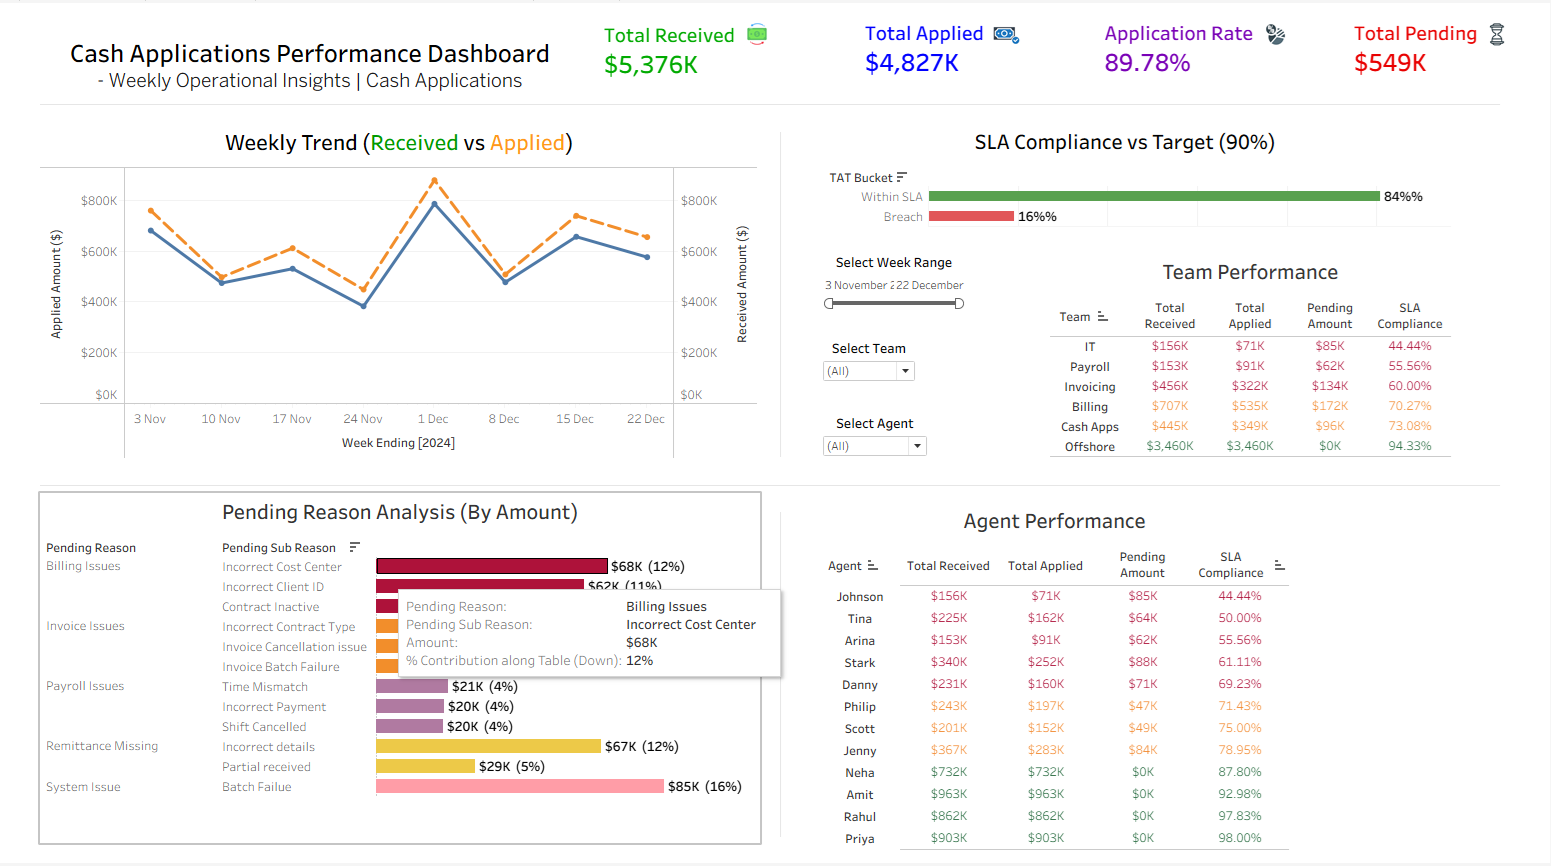

This screenshot's page, from the dashboard's own definition file:
{"tool":"tableau","page":{"name":"Dashboard 1","canvas":[1000,1000],"units":"permille","ordinal":0},"visuals":[{"type":"image","param":"Image/Image- Total Applied.jpeg","box":[638.1,15.1,19.4,46.5]},{"type":"image","param":"Image/Image-Total Received.jpeg","box":[478.7,16.3,19.4,34.9]},{"type":"text","box":[25.8,18.6,348.4,104.7]},{"type":"worksheet","title":"Total Received","mark":"Text","box":[387.1,18.6,135.5,104.7]},{"type":"worksheet","title":"Total Applied","mark":"Automatic","box":[555.5,18.6,135.5,104.7]},{"type":"worksheet","title":"Application Rate","mark":"Automatic","box":[709.7,18.6,135.5,104.7]},{"type":"image","param":"Image/Image- Application rate.jpeg","box":[812.9,18.6,19.4,34.9]},{"type":"image","param":"Image/Image-Total Pending.jpeg","box":[958.1,20.9,19.4,29.1]},{"type":"blank","box":[25.8,117.4,941.9,1.2]},{"type":"worksheet","title":"Weekly Trend","mark":"Line","rows":["Calculation_1283464877477888","Calculation_1283464880144386"],"cols":["Week_Ending (Dim_Date.csv)"],"box":[25.8,139.5,463.2,390.7]},{"type":"worksheet","title":"SLA Compliance ","mark":"Automatic","rows":["TAT_Bucket"],"cols":["Payment_ID"],"box":[516.1,139.5,460,144.2]},{"type":"blank","box":[503.2,150,0.7,377.9]},{"type":"filter","title":"Weekly Trend","param":"[federated.0hyamtn0j61uck1a8xni10q1xgcz].[twk:Week_Ending (Dim_Date.csv):qk]","box":[529,290.7,95.5,97.7]},{"type":"worksheet","title":"Team Performance","mark":"Text","rows":["Team"],"box":[677.4,290.7,271,261.6]},{"type":"filter","title":"Weekly Trend","param":"[federated.0hyamtn0j61uck1a8xni10q1xgcz].[none:Team:nk]","box":[529,390.7,63.2,64]},{"type":"filter","title":"Team Performance","param":"[federated.0hyamtn0j61uck1a8xni10q1xgcz].[none:Agent:nk]","box":[529,477.9,71,80.2]},{"type":"blank","box":[25.8,560.5,941.9,1.2]},{"type":"worksheet","title":"Pending Analysis","mark":"Bar","rows":["Pending_Reason","Pending_Sub Reason"],"cols":["Amount"],"box":[25.8,569.8,464.5,407]},{"type":"worksheet","title":"Agent Performance","mark":"Text","rows":["Agent"],"box":[529,580.2,327.1,407]},{"type":"blank","box":[503.2,591.9,0.7,377.9]}]}

Visuals, with their boxes on the dashboard's canvas, which has no fixed pixel size, in thousandths of its width and height (x1, y1, x2, y2). These are canvas units, not pixel positions in the 1551x866 screenshot, which may show the page scaled, cropped or inside an application window:
image: Rect(638, 15, 658, 62)
image: Rect(479, 16, 498, 51)
text: Rect(26, 19, 374, 123)
"Total Received" worksheet (Text marks): Rect(387, 19, 523, 123)
"Total Applied" worksheet: Rect(556, 19, 691, 123)
"Application Rate" worksheet: Rect(710, 19, 845, 123)
image: Rect(813, 19, 832, 54)
image: Rect(958, 21, 978, 50)
blank: Rect(26, 117, 968, 119)
"Weekly Trend" worksheet (Line marks): Rect(26, 140, 489, 530)
"SLA Compliance " worksheet: Rect(516, 140, 976, 284)
blank: Rect(503, 150, 504, 528)
"Weekly Trend" filter: Rect(529, 291, 624, 388)
"Team Performance" worksheet (Text marks): Rect(677, 291, 948, 552)
"Weekly Trend" filter: Rect(529, 391, 592, 455)
"Team Performance" filter: Rect(529, 478, 600, 558)
blank: Rect(26, 560, 968, 562)
"Pending Analysis" worksheet (Bar marks): Rect(26, 570, 490, 977)
"Agent Performance" worksheet (Text marks): Rect(529, 580, 856, 987)
blank: Rect(503, 592, 504, 970)
